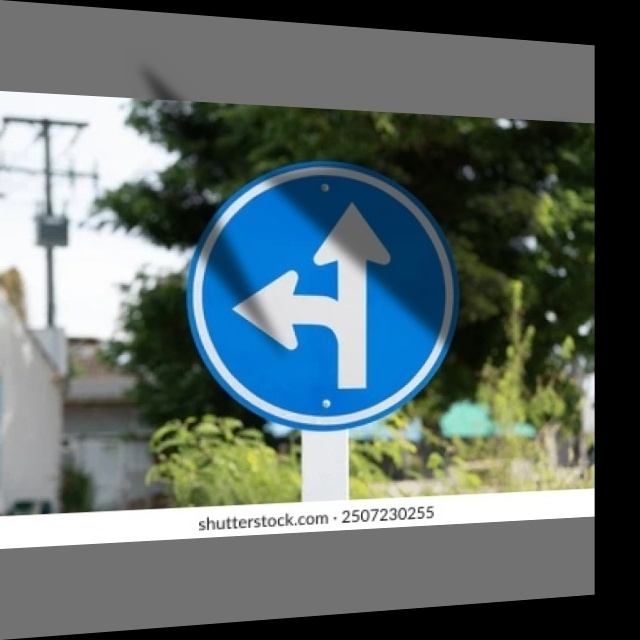Compulsory_Ahead_or_Turn_Left: (184, 161, 455, 431)
